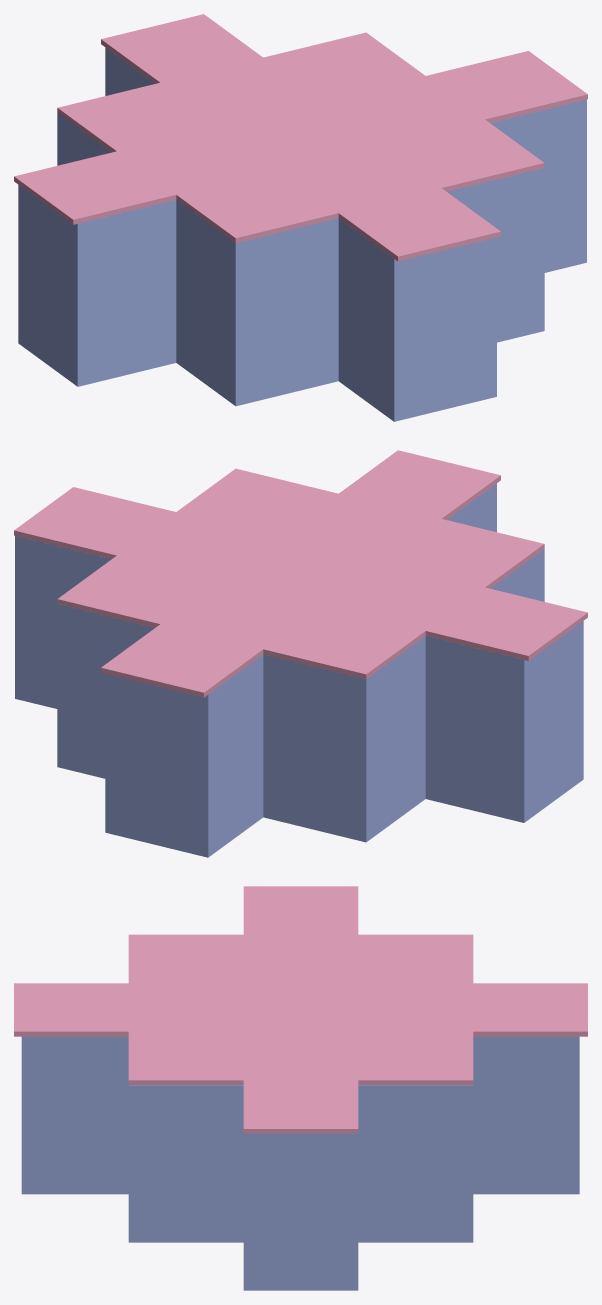
Rendered from airraidshelter-floor.glb.
The picture shows the model from 3 angles, top to bottom: view 1: azimuth 30°, elevation 25°; view 2: azimuth 150°, elevation 25°; view 3: azimuth 270°, elevation 25°; orthographic projection. The views are drawn at different scales.
Parts seen in each view (by area): view 1: S2|SM_Foundation_Temp_AirRaidShelterFloor#0, S1|SM_AirRaidShelter_Stage5_01c#0; view 2: S2|SM_Foundation_Temp_AirRaidShelterFloor#0, S1|SM_AirRaidShelter_Stage5_01c#0; view 3: S2|SM_Foundation_Temp_AirRaidShelterFloor#0, S1|SM_AirRaidShelter_Stage5_01c#0.
Boxes of the visible parts, <box> form: S2|SM_Foundation_Temp_AirRaidShelterFloor#0: <box>18,47,586,421</box>; S1|SM_AirRaidShelter_Stage5_01c#0: <box>14,14,587,261</box>; S2|SM_Foundation_Temp_AirRaidShelterFloor#0: <box>15,483,583,857</box>; S1|SM_AirRaidShelter_Stage5_01c#0: <box>14,450,587,697</box>; S2|SM_Foundation_Temp_AirRaidShelterFloor#0: <box>21,1036,579,1290</box>; S1|SM_AirRaidShelter_Stage5_01c#0: <box>14,886,587,1133</box>.
Bounding box in the file's own units: 7.5 × 2.34 × 7.5.
